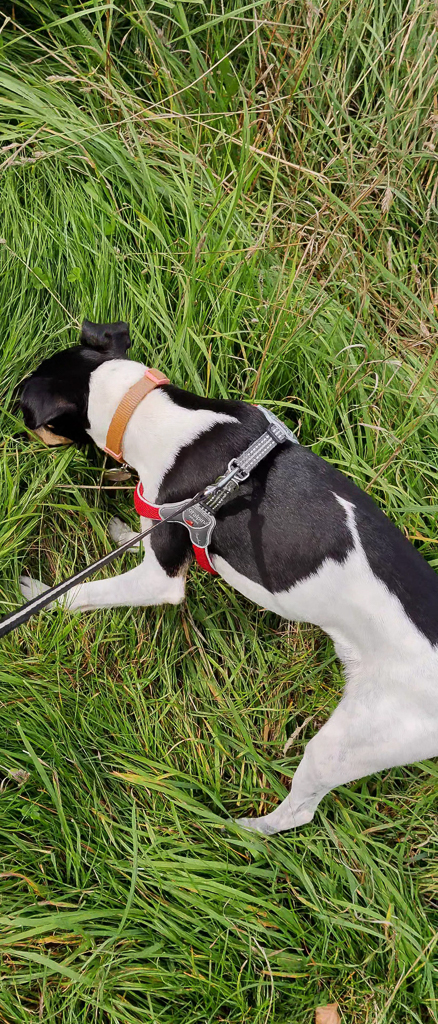Dog: (4, 281, 438, 843)
